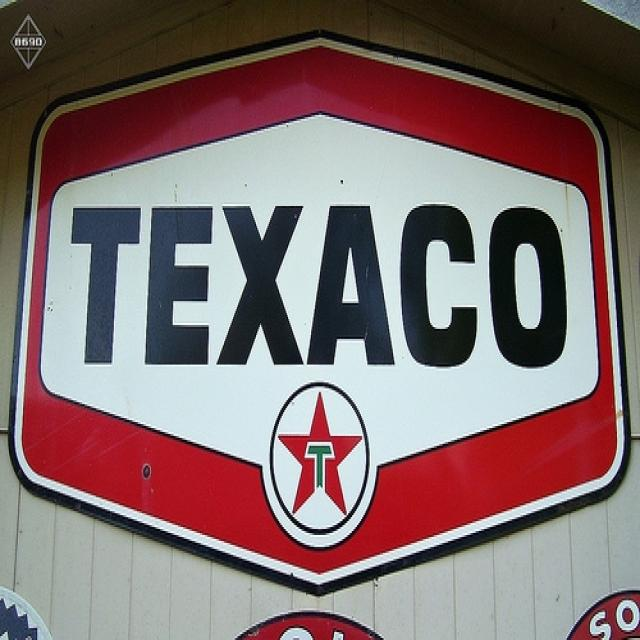texaco: (274, 385, 367, 532)
